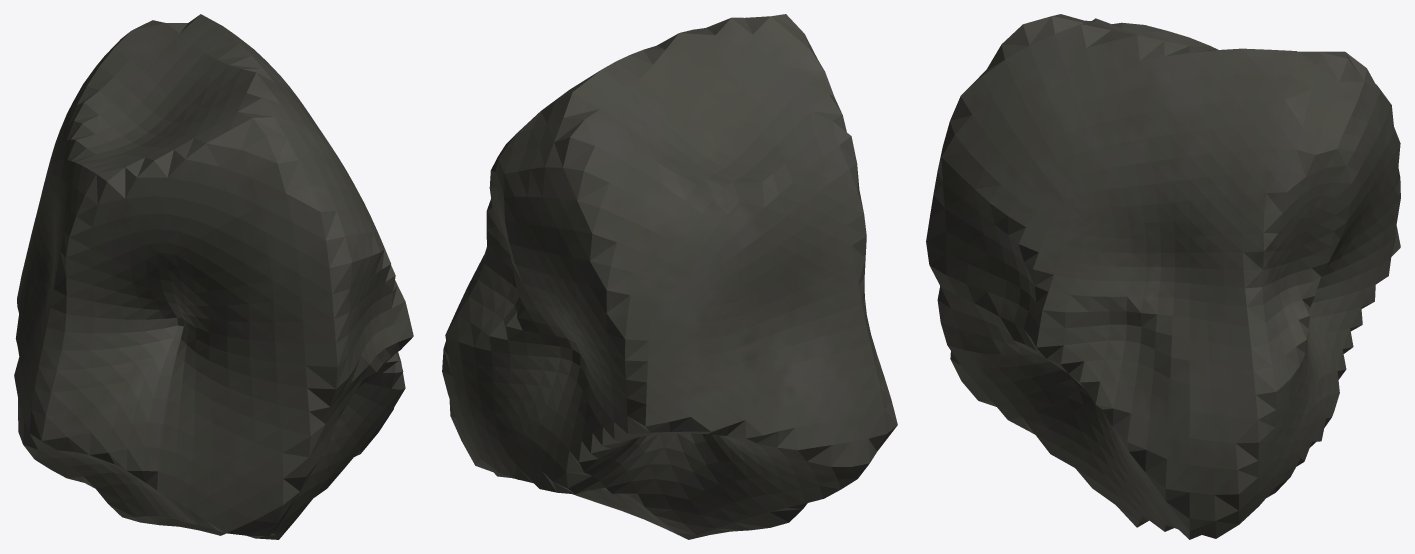
Rendered from rocks-white_4.fbx.
3 views of the same model, side by side, from view 1: azimuth 30°, elevation 25°; view 2: azimuth 150°, elevation 25°; view 3: azimuth 270°, elevation 25° (orthographic). The views are drawn at different scales.
Visible parts, largest first — view 1: Cube.031; view 2: Cube.031; view 3: Cube.031.
Boxes of the visible parts, box(x1,y1,x2,y2) form: Cube.031: box(14, 14, 413, 539); Cube.031: box(442, 14, 897, 539); Cube.031: box(926, 14, 1400, 539).
Bounding box in the file's own units: 162 × 192 × 171.
